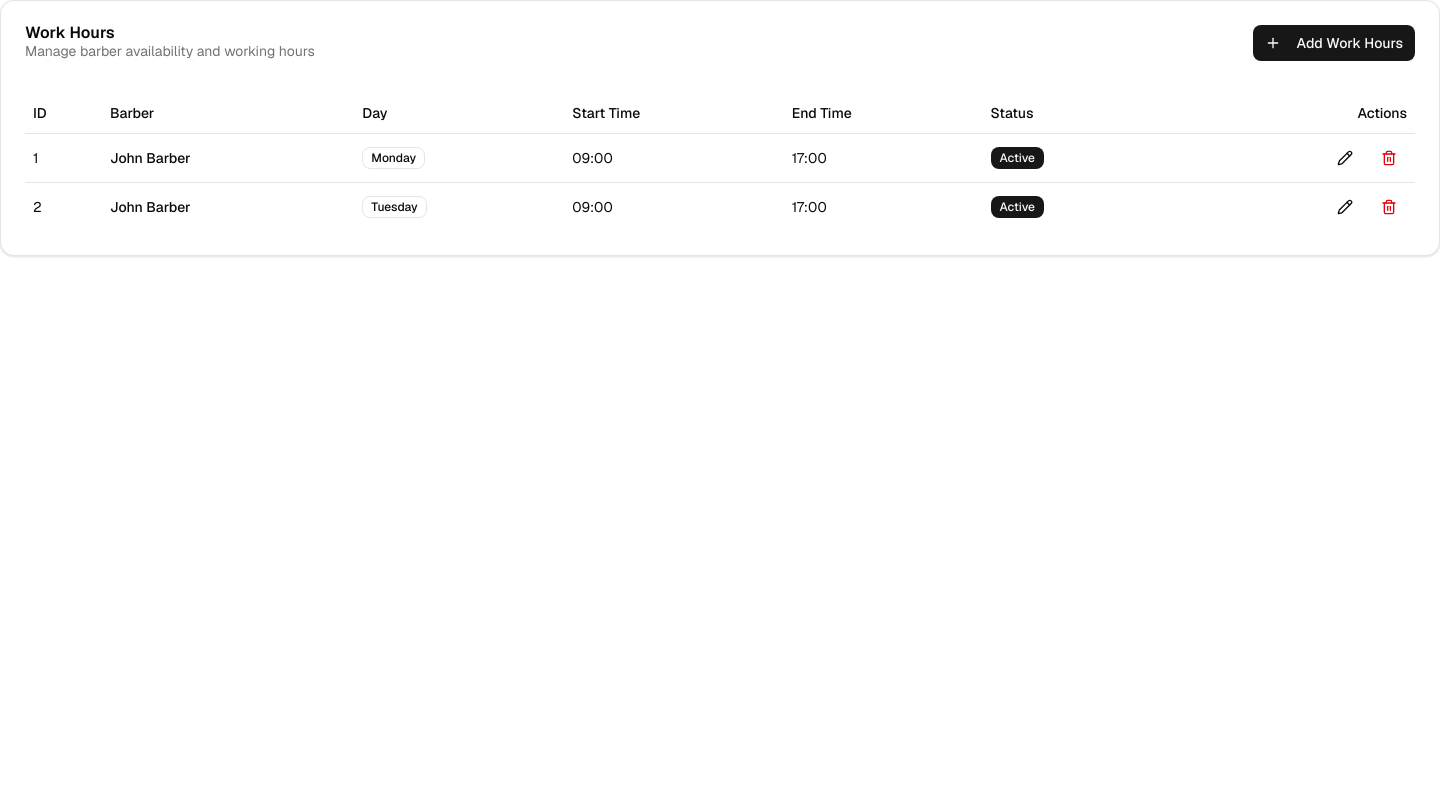
Test: WorkHoursTab › should open add dialog when clicking Add Work Hours button
Click the button "Add Work Hours": (1334, 43) left=1253, top=25, right=1415, bottom=61
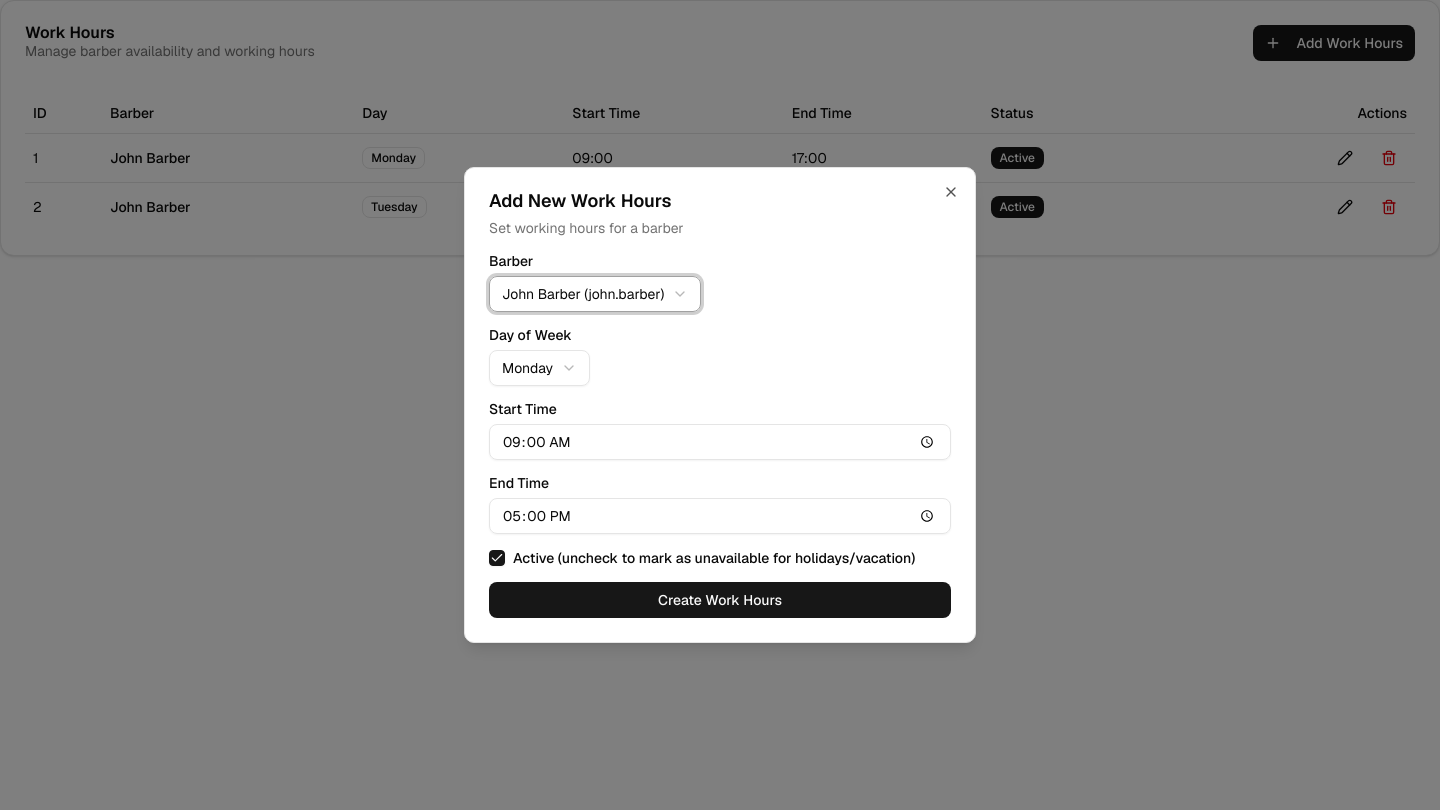
Expected: the heading "Add New Work Hours" is shown, left=489, top=189, right=671, bottom=212
